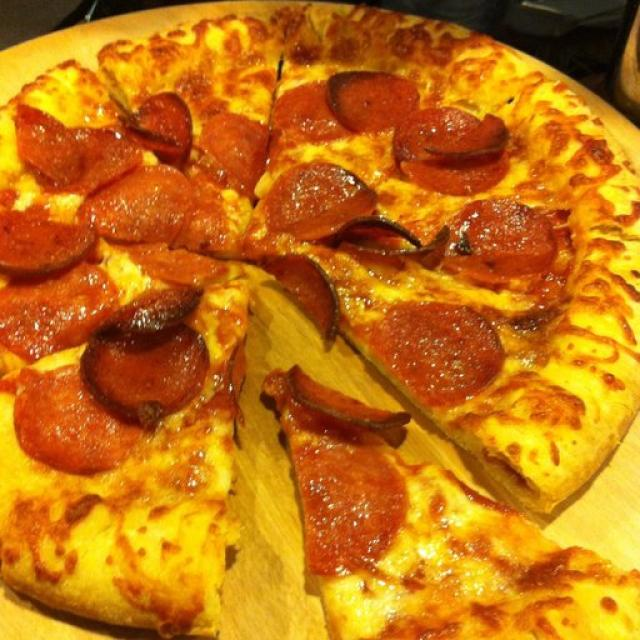Pepperoni: (292, 430, 408, 564), (360, 299, 505, 398), (435, 198, 578, 298), (11, 370, 154, 467), (6, 270, 121, 359), (94, 337, 212, 422), (288, 68, 413, 146), (396, 115, 507, 192), (285, 366, 404, 426), (90, 170, 191, 230), (13, 102, 80, 190), (265, 170, 367, 227), (270, 254, 346, 326), (0, 223, 107, 274), (208, 111, 268, 184), (112, 286, 198, 332), (58, 125, 144, 171), (338, 216, 432, 258), (138, 92, 193, 156), (136, 246, 226, 282), (271, 96, 323, 138)
Pizza: (0, 0, 640, 640), (268, 362, 640, 640)
